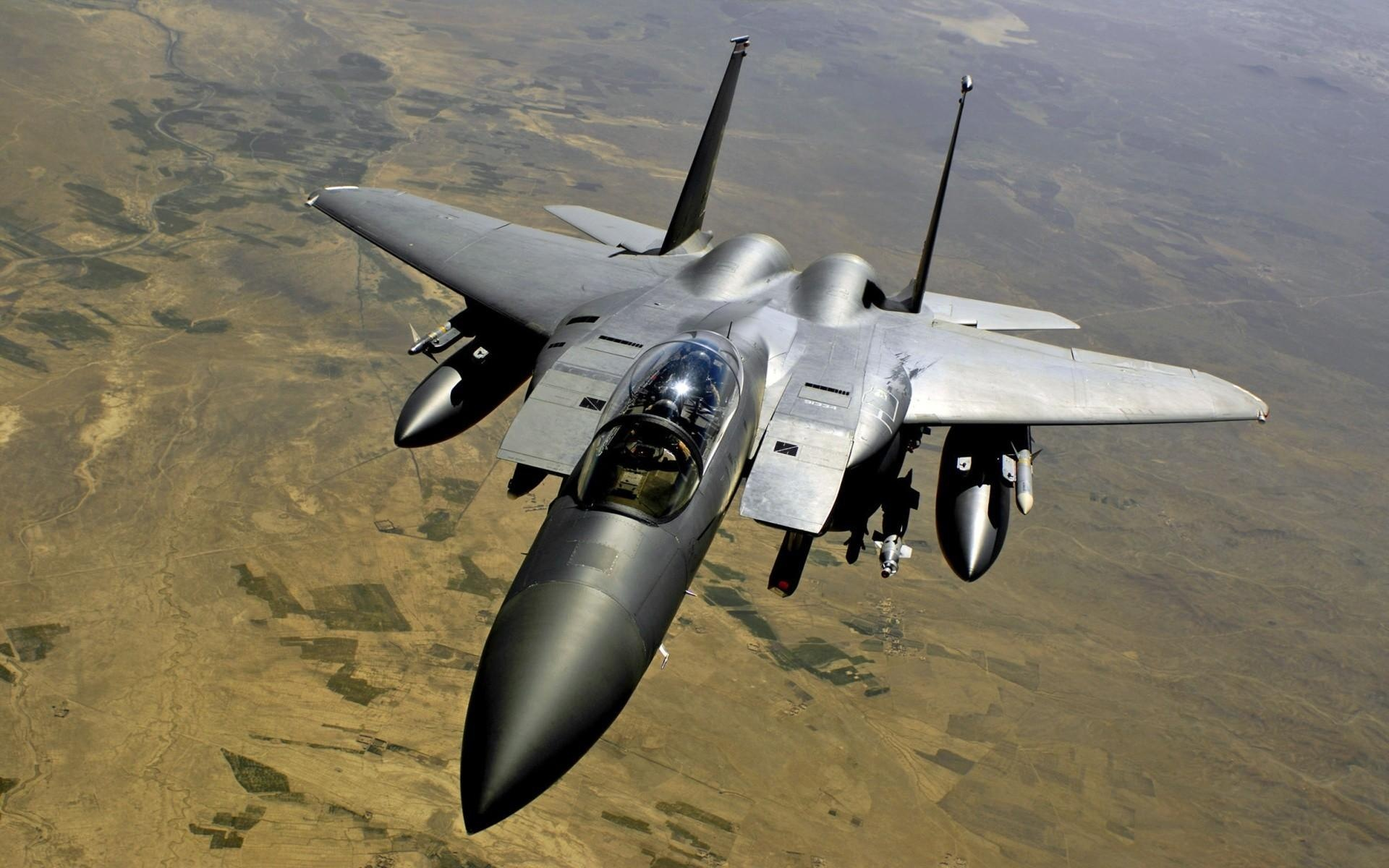aircraft: (304, 37, 1266, 832)
